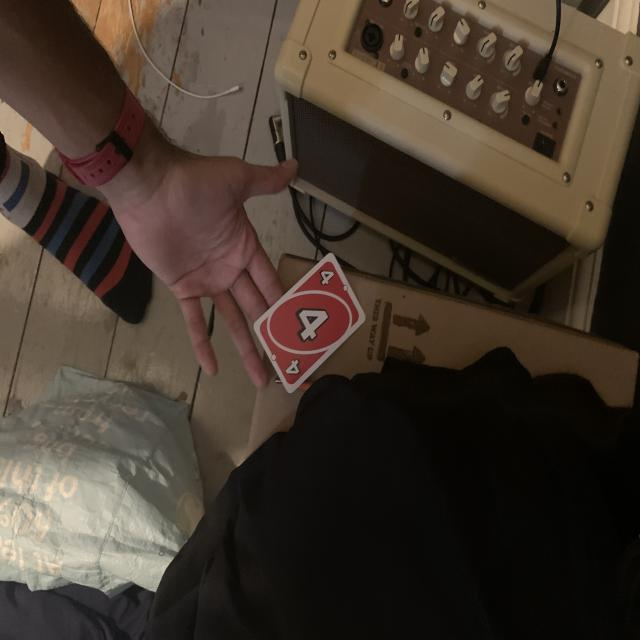lred-4: (315, 265, 337, 288)
